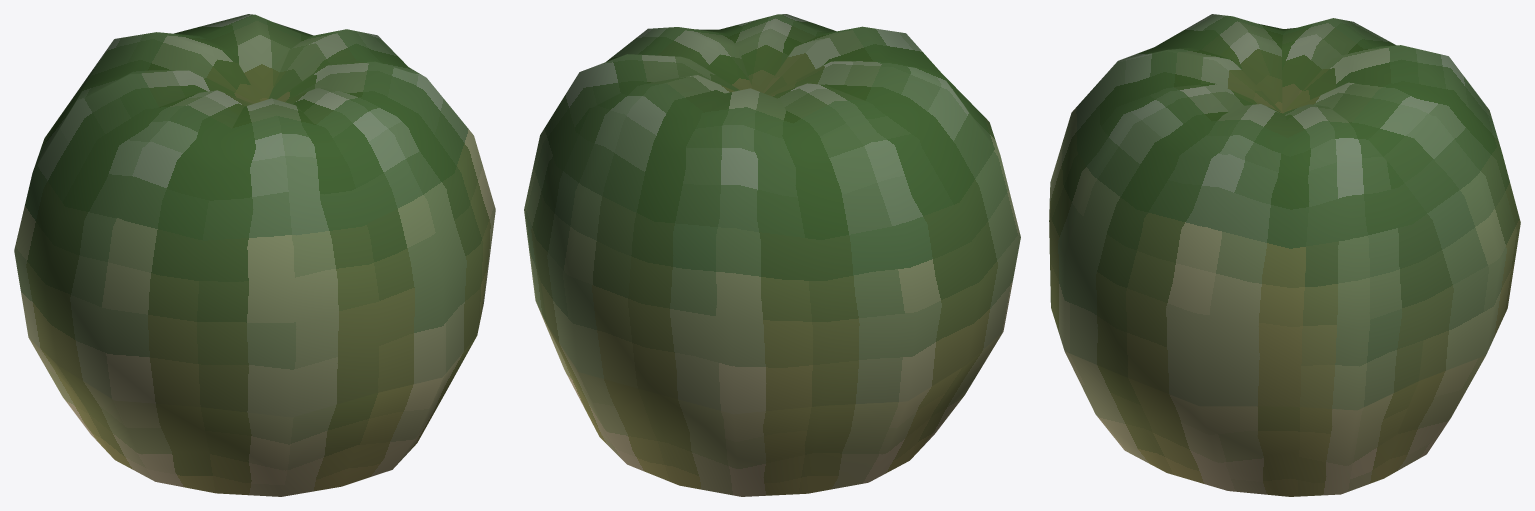
The model's file is plants_un_barrelcactus03.gltf.
3 renders of one model, left to right at view 1: azimuth 30°, elevation 25°; view 2: azimuth 150°, elevation 25°; view 3: azimuth 270°, elevation 25°, orthographic. The views are drawn at different scales.
Visible parts, largest first — view 1: plants_un_barrelcactus03_mesh_shape:plants_un_barrelcactus03; view 2: plants_un_barrelcactus03_mesh_shape:plants_un_barrelcactus03; view 3: plants_un_barrelcactus03_mesh_shape:plants_un_barrelcactus03.
Part boxes in pixels (bbox=[...]): plants_un_barrelcactus03_mesh_shape:plants_un_barrelcactus03: bbox=[14, 14, 495, 496]; plants_un_barrelcactus03_mesh_shape:plants_un_barrelcactus03: bbox=[524, 14, 1020, 496]; plants_un_barrelcactus03_mesh_shape:plants_un_barrelcactus03: bbox=[1049, 14, 1520, 496].
Size of what is drawn, in the model's own units: 0.2829 by 0.2335 by 0.2771.
1 material, 1 textured.
